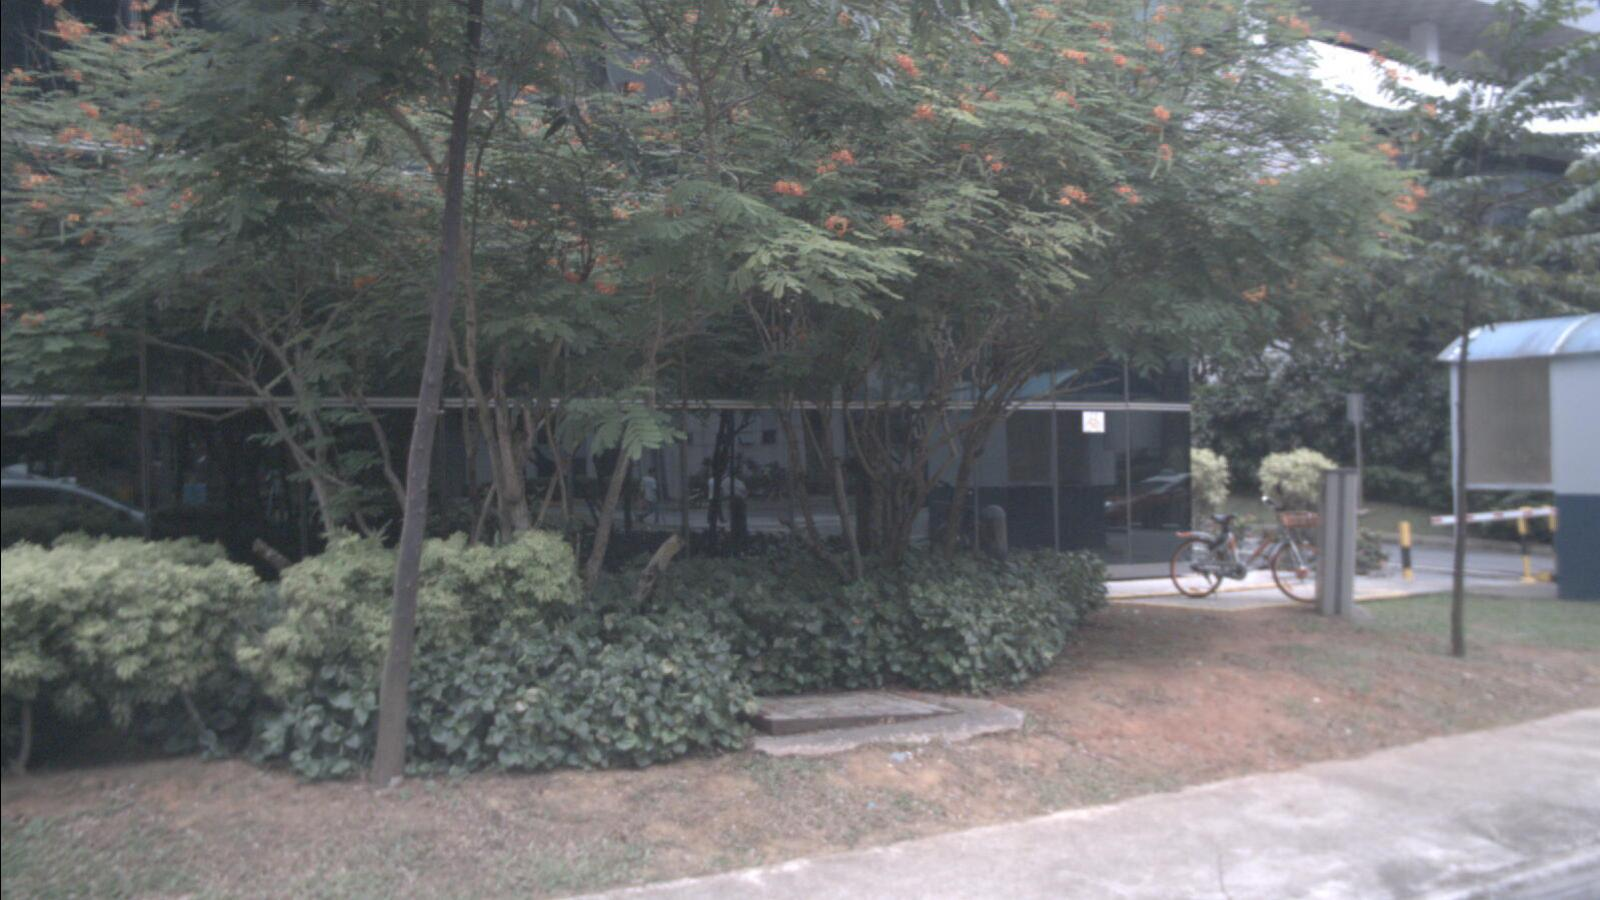human.pedestrian.adult-pedestrian.moving: (636, 467, 662, 526), (707, 468, 726, 528)
